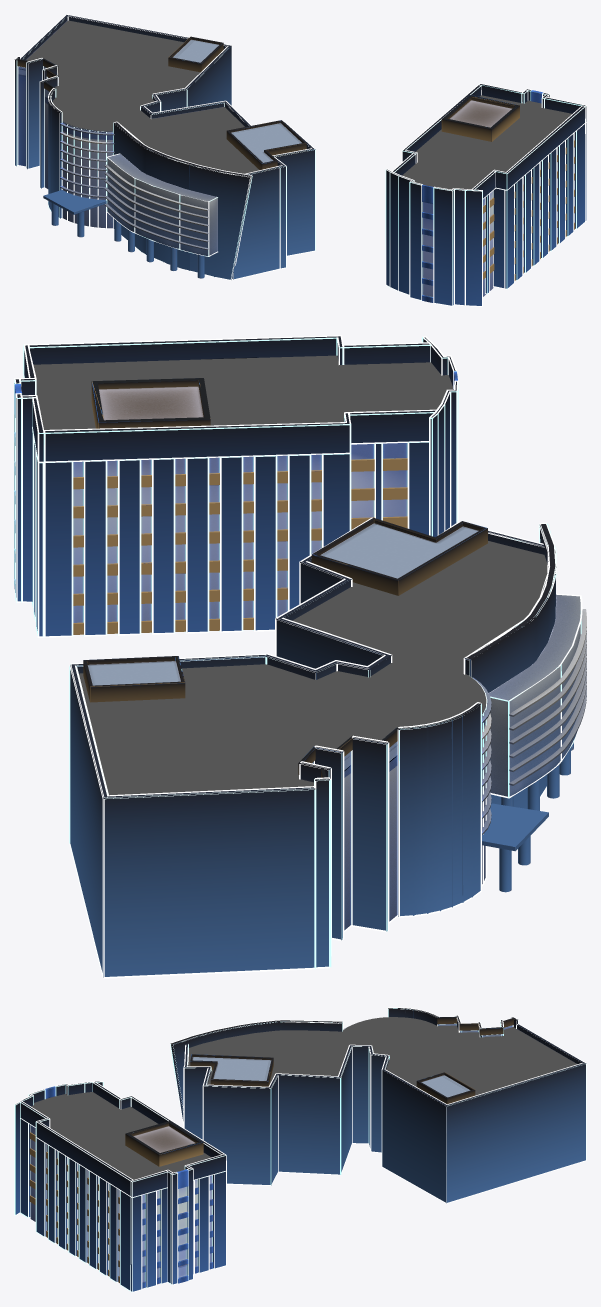
The model's file is yonghui_dasha.glb.
3 renders of one model, top to bottom at view 1: azimuth 30°, elevation 25°; view 2: azimuth 150°, elevation 25°; view 3: azimuth 270°, elevation 25°, orthographic. The views are drawn at different scales.
Parts seen in each view (by area): view 1: 07 - Default.002, 02 - Default.001, 07 - Default.003, 01 - Default (1).001, Material #26.001, 02 - Default.002, Material #26 (1).001, 07 - Default.001, 01 - Default (1).002, 01 - Default.002; view 2: 07 - Default.002, 02 - Default.001, 07 - Default.003, 02 - Default.002, Material #26.001, 01 - Default (1).001, 01 - Default.002, 07 - Default.001, Material #26 (1).001, 01 - Default (1).002; view 3: 07 - Default.002, 02 - Default.001, 07 - Default.003, Material #26.001, 02 - Default.002, 07 - Default.001, 01 - Default.002, Material #26 (1).001.
Boxes of the visible parts, left/top/right/bottom form: 07 - Default.002: left=14, top=15, right=315, bottom=279; 02 - Default.001: left=386, top=84, right=586, bottom=305; 07 - Default.003: left=26, top=20, right=259, bottom=173; 01 - Default (1).001: left=18, top=66, right=217, bottom=255; Material #26.001: left=385, top=83, right=586, bottom=306; 02 - Default.002: left=402, top=95, right=571, bottom=189; Material #26 (1).001: left=14, top=56, right=252, bottom=280; 07 - Default.001: left=20, top=14, right=315, bottom=280; 01 - Default (1).002: left=17, top=66, right=217, bottom=256; 01 - Default.002: left=422, top=191, right=493, bottom=296; 07 - Default.002: left=70, top=517, right=586, bottom=977; 02 - Default.001: left=14, top=336, right=457, bottom=636; 07 - Default.003: left=79, top=541, right=547, bottom=795; 02 - Default.002: left=33, top=355, right=453, bottom=429; Material #26.001: left=14, top=335, right=458, bottom=637; 01 - Default (1).001: left=312, top=594, right=580, bottom=930; 01 - Default.002: left=73, top=443, right=407, bottom=622; 07 - Default.001: left=69, top=517, right=544, bottom=978; Material #26 (1).001: left=299, top=522, right=556, bottom=968; 01 - Default (1).002: left=299, top=593, right=582, bottom=931; 07 - Default.002: left=170, top=1008, right=586, bottom=1203; 02 - Default.001: left=15, top=1081, right=225, bottom=1291; 07 - Default.003: left=188, top=1017, right=576, bottom=1095; Material #26.001: left=14, top=1081, right=226, bottom=1292; 02 - Default.002: left=31, top=1092, right=211, bottom=1179; 07 - Default.001: left=183, top=1024, right=586, bottom=1203; 01 - Default.002: left=30, top=1125, right=212, bottom=1281; Material #26 (1).001: left=170, top=1007, right=518, bottom=1125.
Bounding box in the file's own units: 93.18 × 26 × 118.
6 materials, 4 textured.
